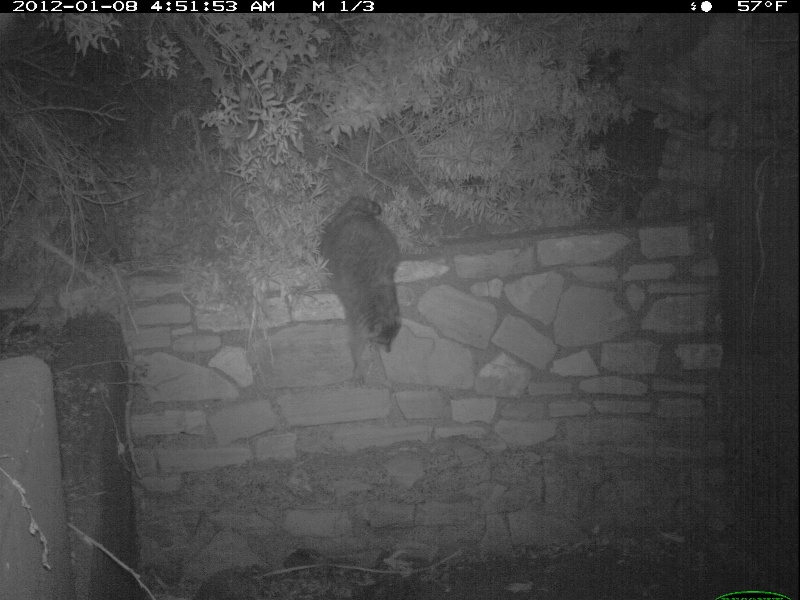raccoon: (317, 195, 404, 385)
